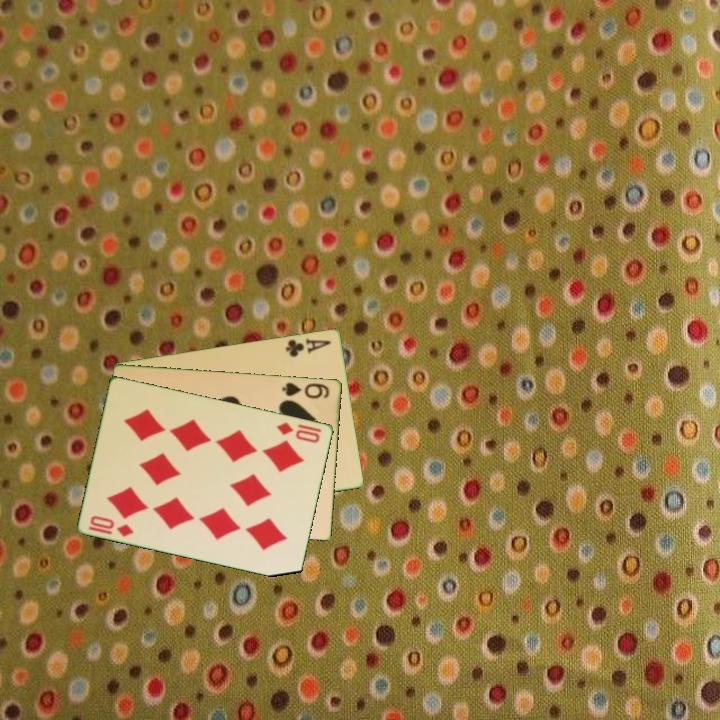10d: (273, 418, 323, 446), (87, 512, 137, 540)
6s: (279, 379, 332, 401)
Ac: (282, 335, 334, 360)
